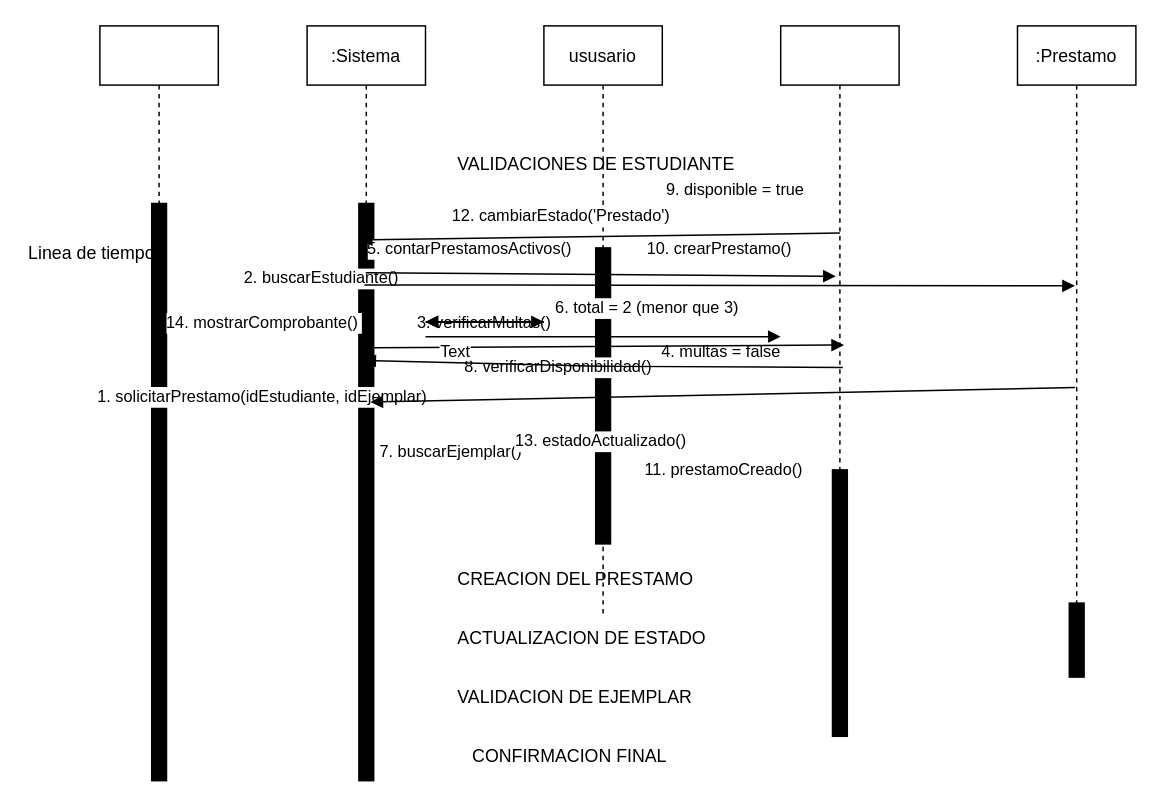
Some shapes in this 1162 by 807 pixel diagram are drawn without their labels. The shapes that lost their labels are listed below. From the top down, each one's centre as x and y in pixels, then its label:
At (158,321): "Bibliotecario".
At (839,321): ":Ejemplar".
